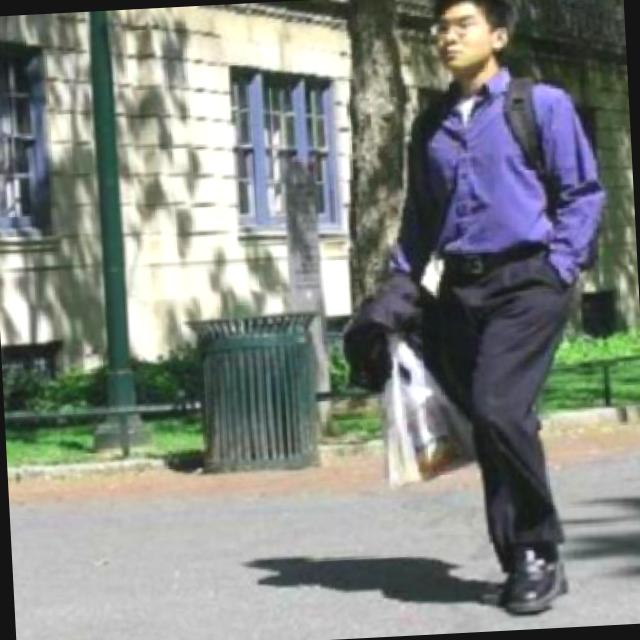Person: (360, 0, 631, 623)
